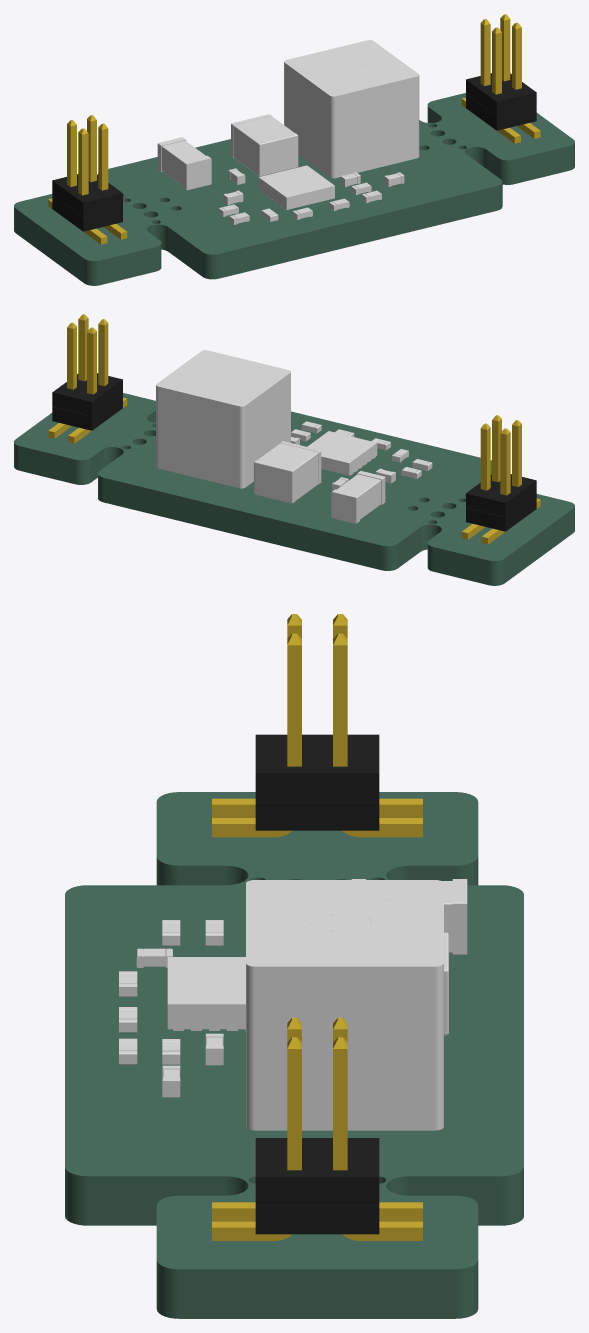
The model's file is minimal_max17761.glb.
3 renders of one model, top to bottom at view 1: azimuth 30°, elevation 25°; view 2: azimuth 150°, elevation 25°; view 3: azimuth 270°, elevation 25°, orthographic. The views are drawn at different scales.
Visible parts, largest first — view 1: =>[0:1:1:27], L1, =>[0:1:1:2] (×2), =>[0:1:1:4] (×3), =>[0:1:1:13], =>[0:1:1:1] (×2), C1, =>[0:1:1:5], =>[0:1:1:3] (×2); view 2: =>[0:1:1:27], L1, =>[0:1:1:2] (×2), =>[0:1:1:4] (×2), =>[0:1:1:3] (×3), =>[0:1:1:1] (×2), C1, =>[0:1:1:13], =>[0:1:1:5]; view 3: =>[0:1:1:27], L1, =>[0:1:1:4] (×2), =>[0:1:1:2] (×2), =>[0:1:1:3] (×2), =>[0:1:1:1] (×2), =>[0:1:1:13], C1.
Boxes of the visible parts, <box> form: =>[0:1:1:27]: <box>14,93,574,285</box>; L1: <box>284,40,419,178</box>; =>[0:1:1:2] (×2): <box>67,14,521,195</box>; =>[0:1:1:4] (×3): <box>52,73,536,216</box>; =>[0:1:1:13]: <box>258,165,334,209</box>; =>[0:1:1:1] (×2): <box>52,94,536,231</box>; C1: <box>157,137,211,190</box>; =>[0:1:1:5]: <box>233,116,294,173</box>; =>[0:1:1:3] (×2): <box>48,97,540,244</box>; =>[0:1:1:27]: <box>14,393,574,585</box>; L1: <box>156,350,290,488</box>; =>[0:1:1:2] (×2): <box>67,314,521,495</box>; =>[0:1:1:4] (×2): <box>52,373,536,516</box>; =>[0:1:1:3] (×3): <box>48,397,540,544</box>; =>[0:1:1:1] (×2): <box>52,394,536,531</box>; C1: <box>331,471,385,523</box>; =>[0:1:1:13]: <box>307,431,377,475</box>; =>[0:1:1:5]: <box>258,443,318,500</box>; =>[0:1:1:27]: <box>65,792,523,1318</box>; L1: <box>246,880,443,1130</box>; =>[0:1:1:4] (×2): <box>255,734,379,1205</box>; =>[0:1:1:2] (×2): <box>287,614,347,1170</box>; =>[0:1:1:3] (×2): <box>212,798,422,1240</box>; =>[0:1:1:1] (×2): <box>255,801,379,1234</box>; =>[0:1:1:13]: <box>167,957,245,1029</box>; C1: <box>351,879,467,954</box>.
Bounding box in the file's own units: 0.0312 × 0.00773 × 0.0127.
